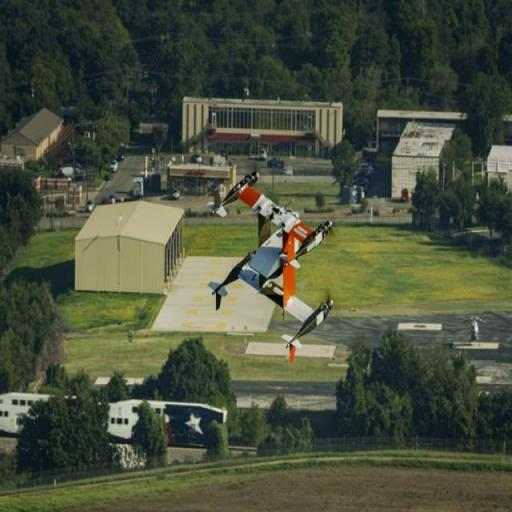uav: (206, 153, 336, 359)
